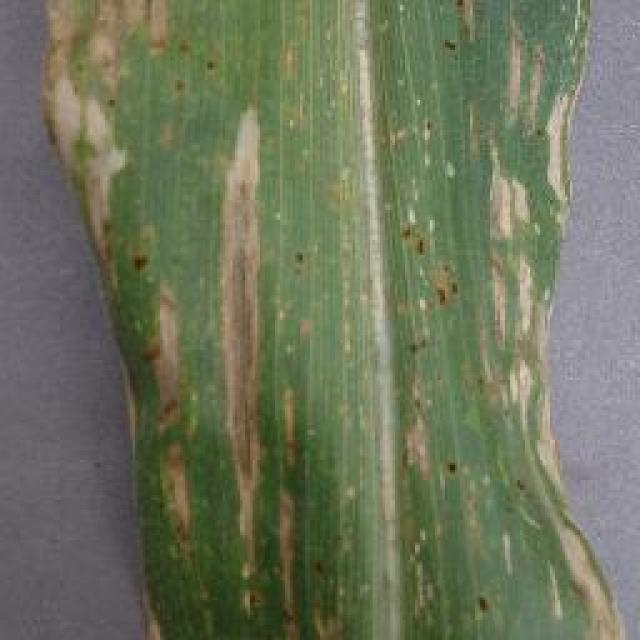Corn___Cercospora_leaf_spot Gray_leaf_spot: (96, 0, 568, 640)
